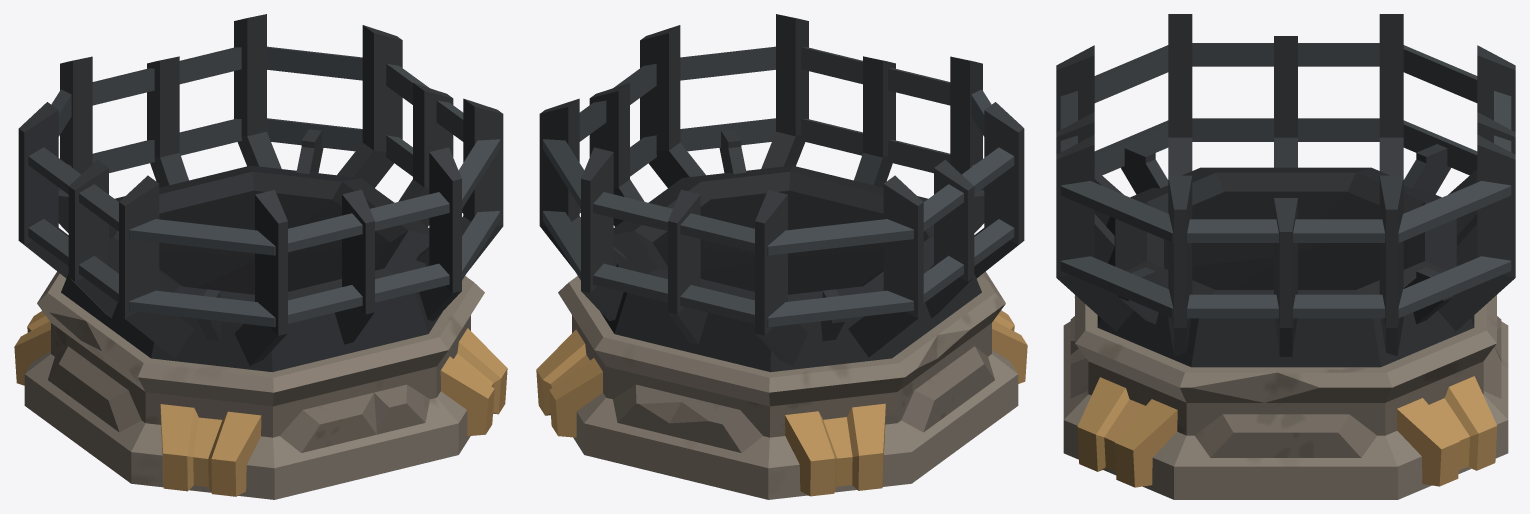
Rendered from forge_brazier.gltf.
The picture shows the model from 3 angles, left to right: view 1: azimuth 30°, elevation 25°; view 2: azimuth 150°, elevation 25°; view 3: azimuth 270°, elevation 25°; orthographic projection. The views are drawn at different scales.
Parts seen in each view (by area): view 1: forge_brazier; view 2: forge_brazier; view 3: forge_brazier.
Boxes of the visible parts, x1,y1,x2,y2 form: forge_brazier: (14, 14, 507, 499); forge_brazier: (536, 14, 1027, 499); forge_brazier: (1056, 14, 1515, 499).
Bounding box in the file's own units: 1.63 × 1.22 × 1.63.
Materials: 1 (1 with a texture image).
